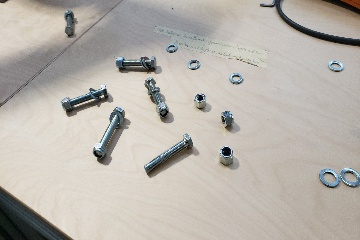Bolt: (140, 131, 197, 176)
FalseAssembly: (90, 104, 127, 161), (59, 83, 112, 113), (64, 9, 76, 39)
FinishedAssembly: (142, 77, 177, 121), (113, 56, 161, 71)
Nut: (218, 144, 235, 166), (219, 110, 235, 129), (193, 93, 208, 109)
Washer: (318, 167, 341, 188), (227, 71, 244, 86), (327, 59, 344, 73), (165, 42, 178, 54), (187, 59, 200, 70)
